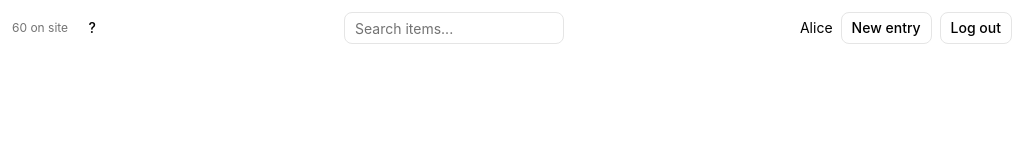
TopBar › logging out returns to the logged-out state
Click the button "Log out" at (976, 28), box [940,12,1012,44]
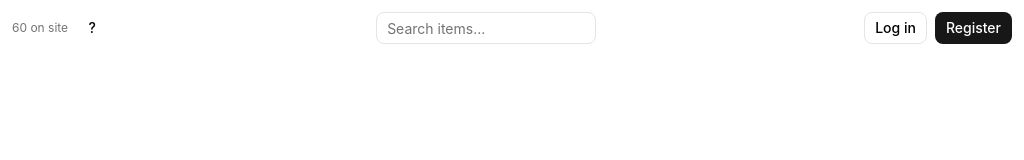
Expected: the text with test id "username" is gone
Expected: the button "Log in" is shown, [864,12,927,44]
